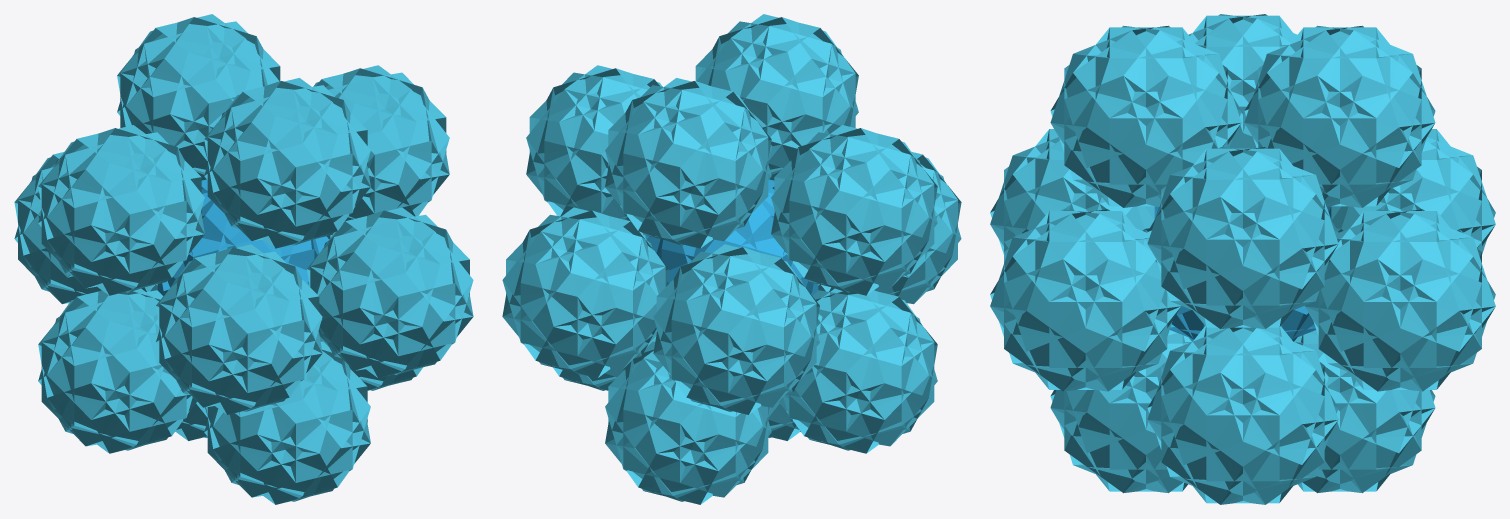
Rendered from fractalrhombicosahedron1.glb.
3 views of the same model, side by side, from view 1: azimuth 30°, elevation 25°; view 2: azimuth 150°, elevation 25°; view 3: azimuth 270°, elevation 25° (orthographic). The views are drawn at different scales.
Size of the model in its own units: 10.78 by 10.78 by 10.78.
